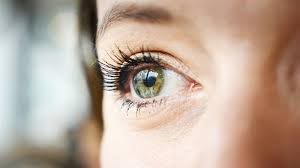pupil: (132, 66, 164, 97)
